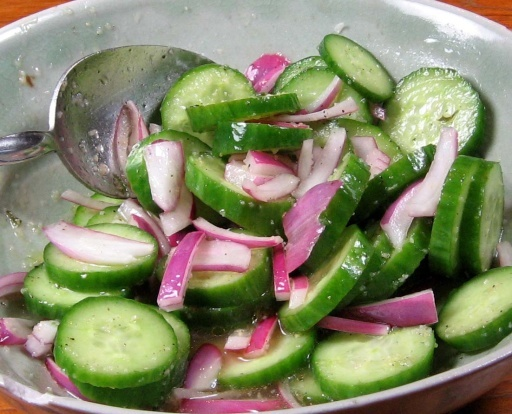background: (0, 21, 410, 267)
